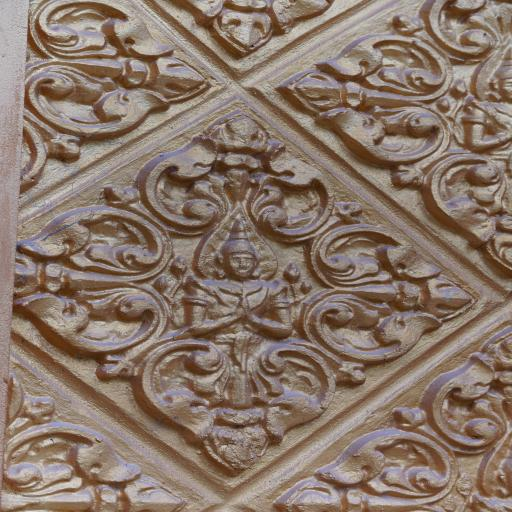la: (130, 334, 356, 473), (27, 0, 213, 154), (10, 202, 172, 367), (131, 118, 352, 235), (307, 221, 481, 367), (5, 376, 183, 512), (294, 36, 455, 162), (281, 422, 456, 512), (417, 326, 512, 453), (159, 0, 357, 58), (431, 153, 512, 274), (420, 0, 512, 59)
than: (173, 213, 306, 355), (453, 39, 512, 158), (477, 405, 512, 512)
